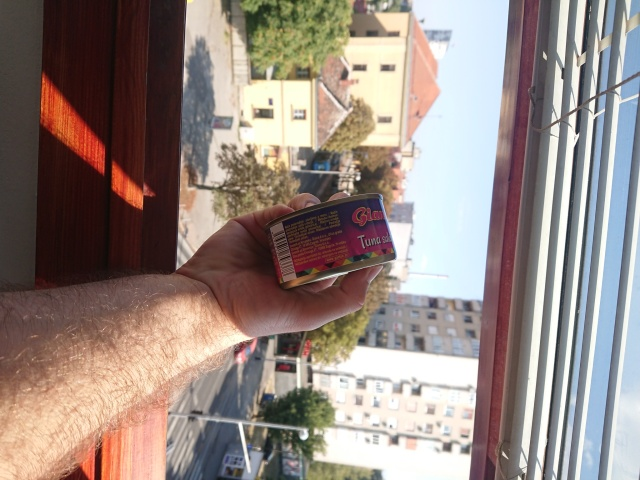Giana Tuna Salad Mexico 185g: (263, 191, 400, 292)
